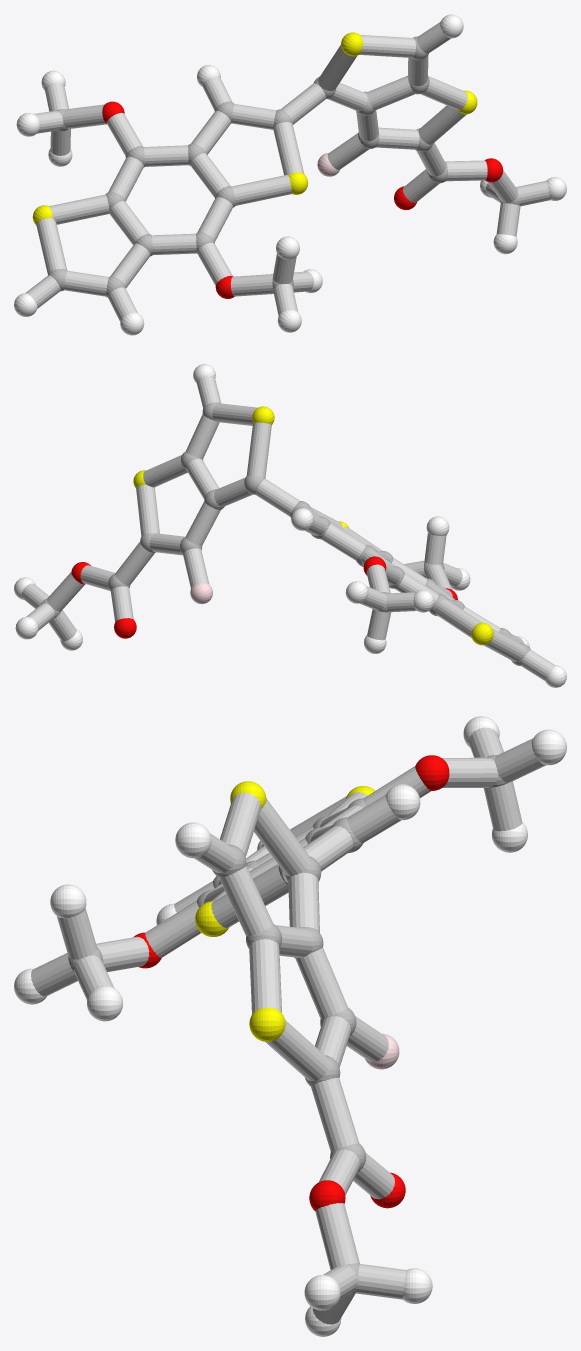
The model's file is color.glb.
The picture shows the model from 3 angles, top to bottom: view 1: azimuth 30°, elevation 25°; view 2: azimuth 150°, elevation 25°; view 3: azimuth 270°, elevation 25°; orthographic projection. The views are drawn at different scales.
Parts seen in each view (by area): view 1: grp15205, grp8689, grp1, grp7241, grp13395; view 2: grp15205, grp8689, grp1, grp7241, grp13395; view 3: grp15205, grp8689, grp1, grp13395, grp7241.
Part boxes in pixels (<box>): grp15205: <box>25,22,550,321</box>; grp8689: <box>14,14,566,335</box>; grp1: <box>48,36,519,297</box>; grp7241: <box>32,32,477,225</box>; grp13395: <box>102,101,503,298</box>; grp15205: <box>21,376,554,680</box>; grp8689: <box>14,364,566,687</box>; grp1: <box>40,402,530,665</box>; grp7241: <box>133,406,493,645</box>; grp13395: <box>71,556,457,638</box>; grp15205: <box>31,727,545,1324</box>; grp8689: <box>14,716,566,1336</box>; grp1: <box>68,755,508,1294</box>; grp13395: <box>133,755,449,1210</box>; grp7241: <box>195,781,375,1041</box>.
Size of the model in its own units: 16.25 by 8.04 by 9.16.
